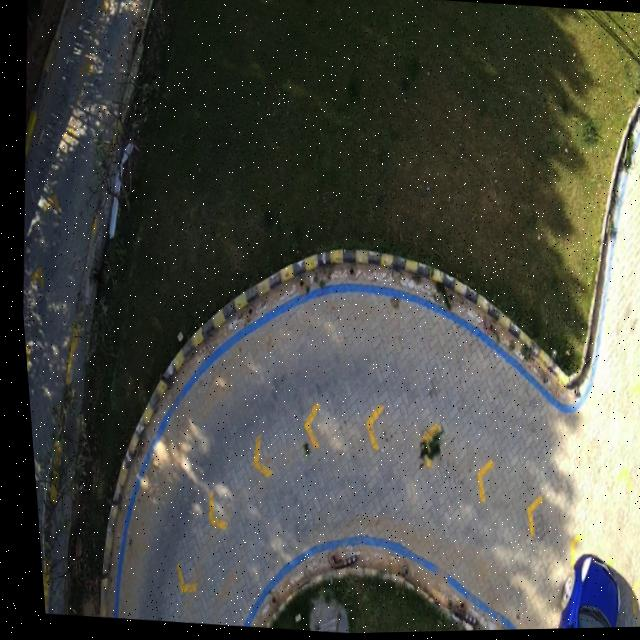car: (548, 558, 610, 631)
